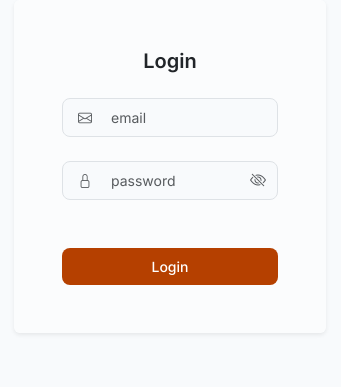
Test: LoginPage › shows error message on failed login
Type "wrong@example.com" into the field with placeholder "email" at point(170, 117), box [62, 98, 278, 137]
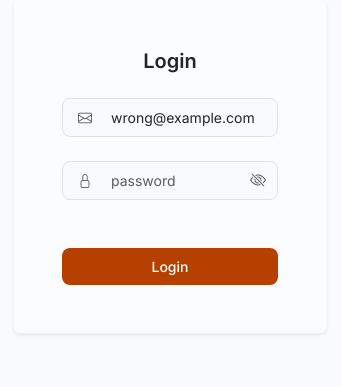
Type "wrongpass" into the password field with placeholder "password" at point(170, 180), box [62, 161, 278, 200]
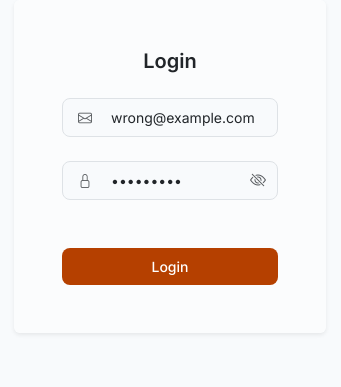
Click the button "Login" at point(170, 266), box [62, 248, 278, 285]
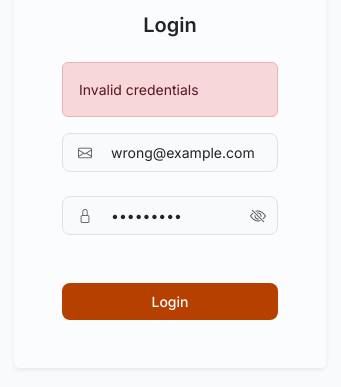
Now the text "Invalid credentials" is shown, box [62, 62, 278, 117]
